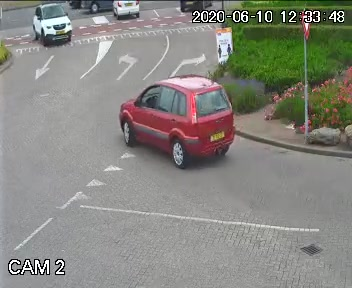car: (109, 71, 246, 164), (30, 0, 75, 50), (106, 2, 146, 20), (172, 0, 212, 15)
